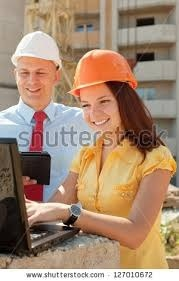helmet: (65, 48, 143, 101), (9, 28, 66, 73)
person with partial safety: (64, 47, 175, 269), (1, 29, 91, 143)
